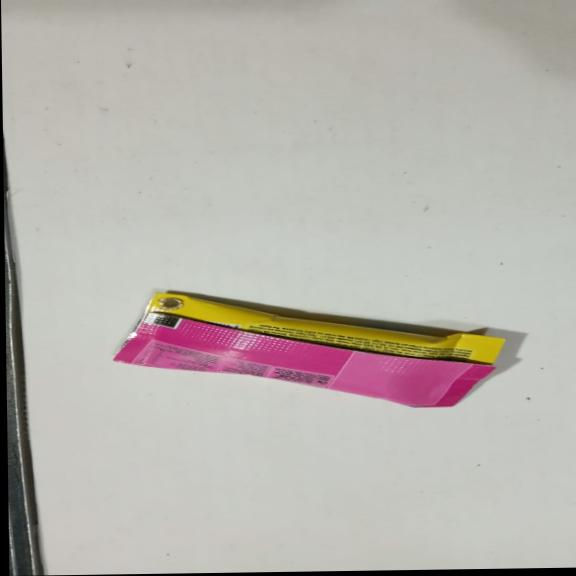Plastik: (111, 286, 506, 413)
